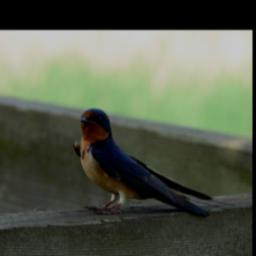Swallow: (71, 106, 237, 220)
